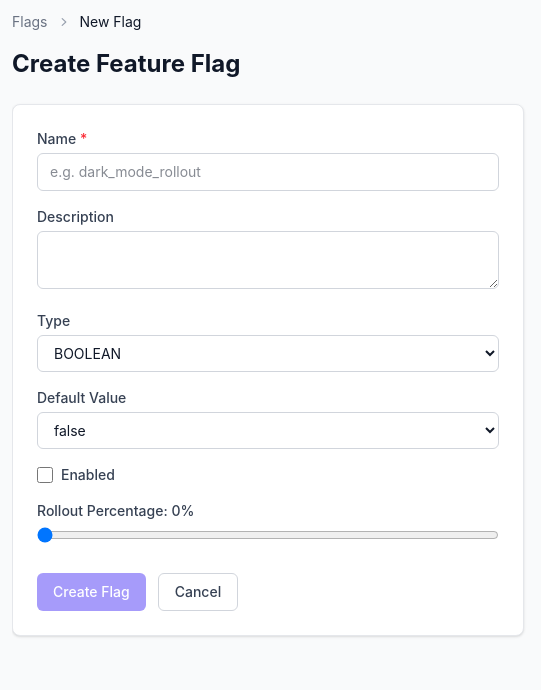
Scenario: Create Flag Page › shows error on creation failure
Type "fail_flag" into the field with test id "flag-name-input" at (268, 172), box [37, 153, 499, 191]
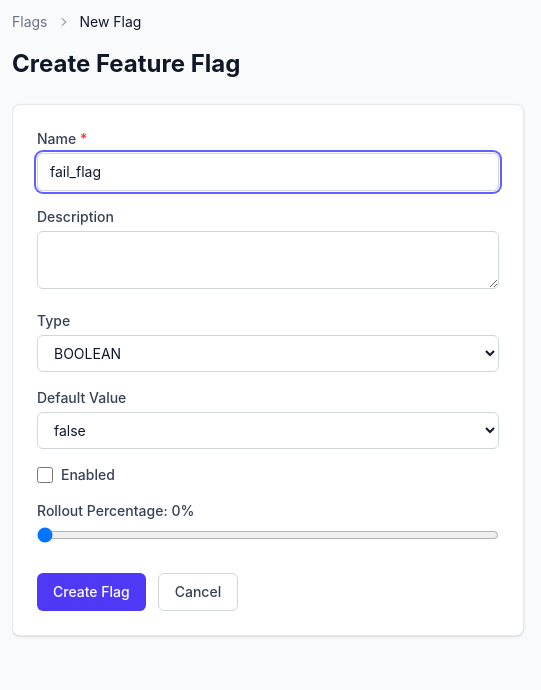
Click the button with test id "create-submit" at (91, 592), box [37, 573, 146, 611]
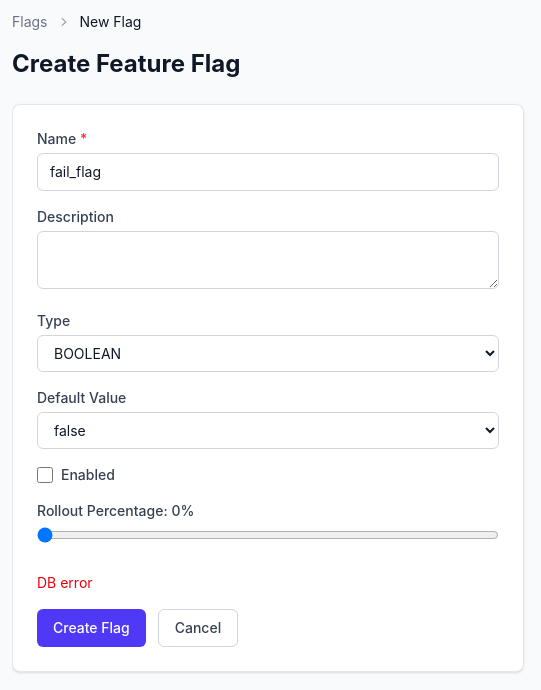
expect the text "DB error" is shown: met, box [37, 574, 93, 591]
